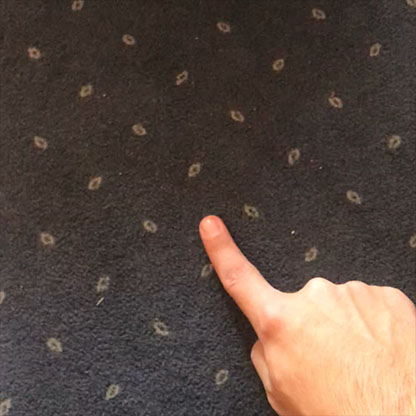fingertip: (195, 211, 230, 245)
